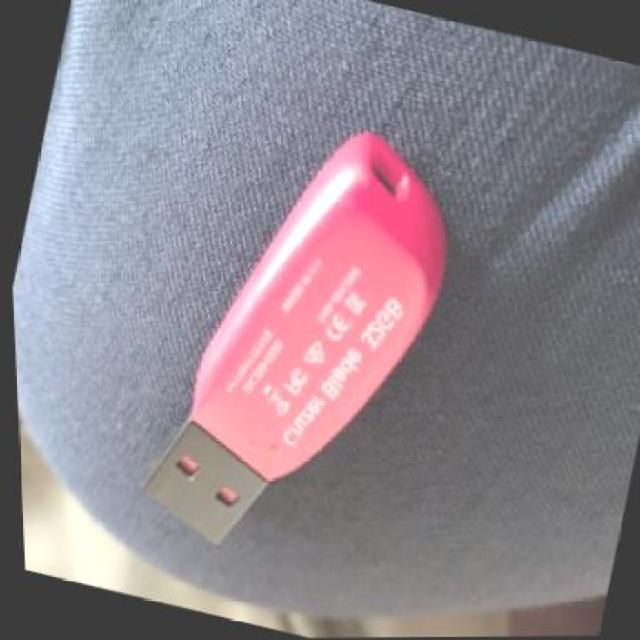Flashdisk: (101, 83, 502, 606)
